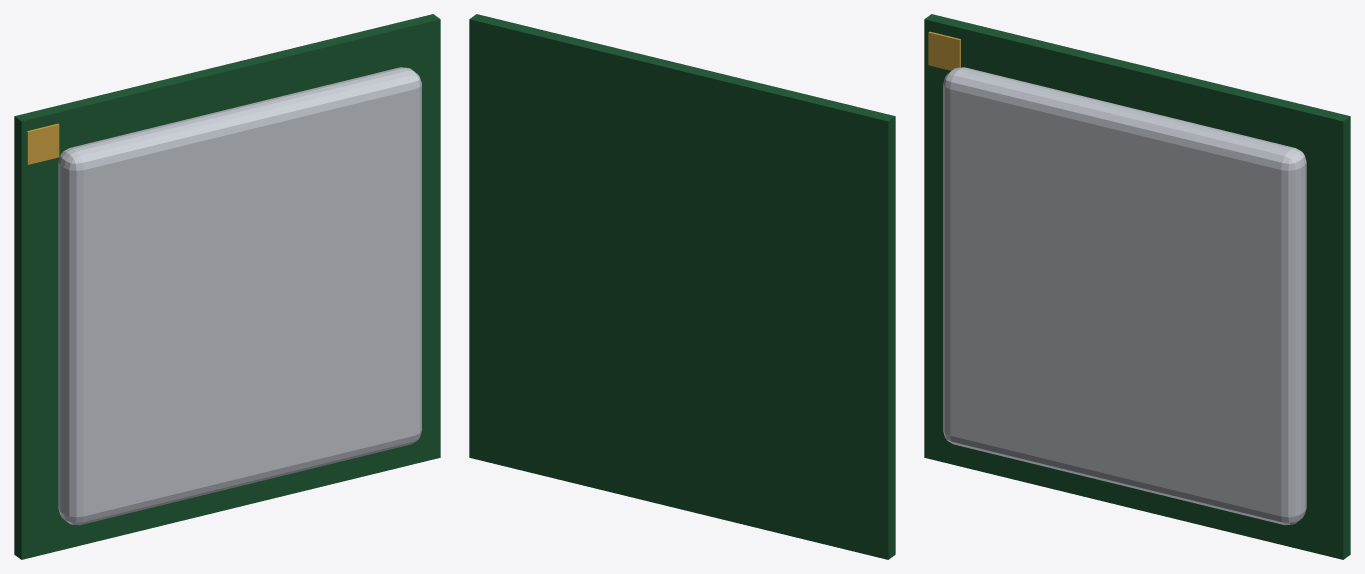
The model's file is cpu.glb.
The picture shows the model from 3 angles, left to right: view 1: azimuth 30°, elevation 25°; view 2: azimuth 150°, elevation 25°; view 3: azimuth 330°, elevation 25°; orthographic projection.
Parts seen in each view (by area): view 1: part_cpu; view 2: part_cpu; view 3: part_cpu.
Boxes of the visible parts, x1,y1,x2,y2 form: part_cpu: (14,14,440,559); part_cpu: (469,14,895,559); part_cpu: (924,14,1350,559).
Bounding box in the file's own units: 0.4 × 0.4 × 0.042.
